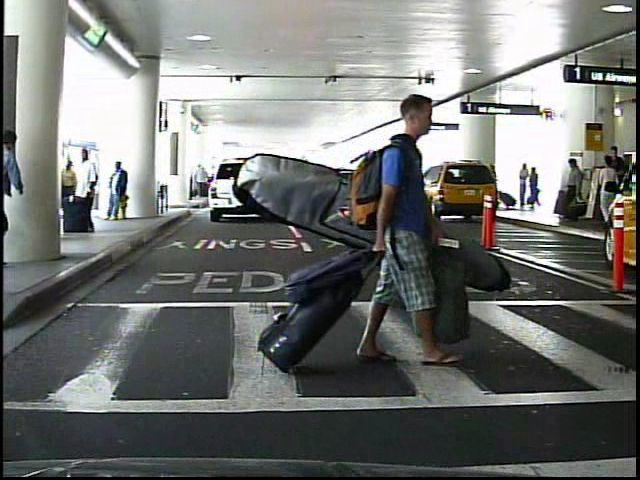person: (350, 84, 456, 377), (74, 146, 100, 236), (590, 154, 617, 230), (105, 160, 131, 227), (560, 157, 584, 225), (58, 158, 78, 231), (605, 142, 622, 225), (515, 162, 530, 209), (527, 166, 538, 210)
